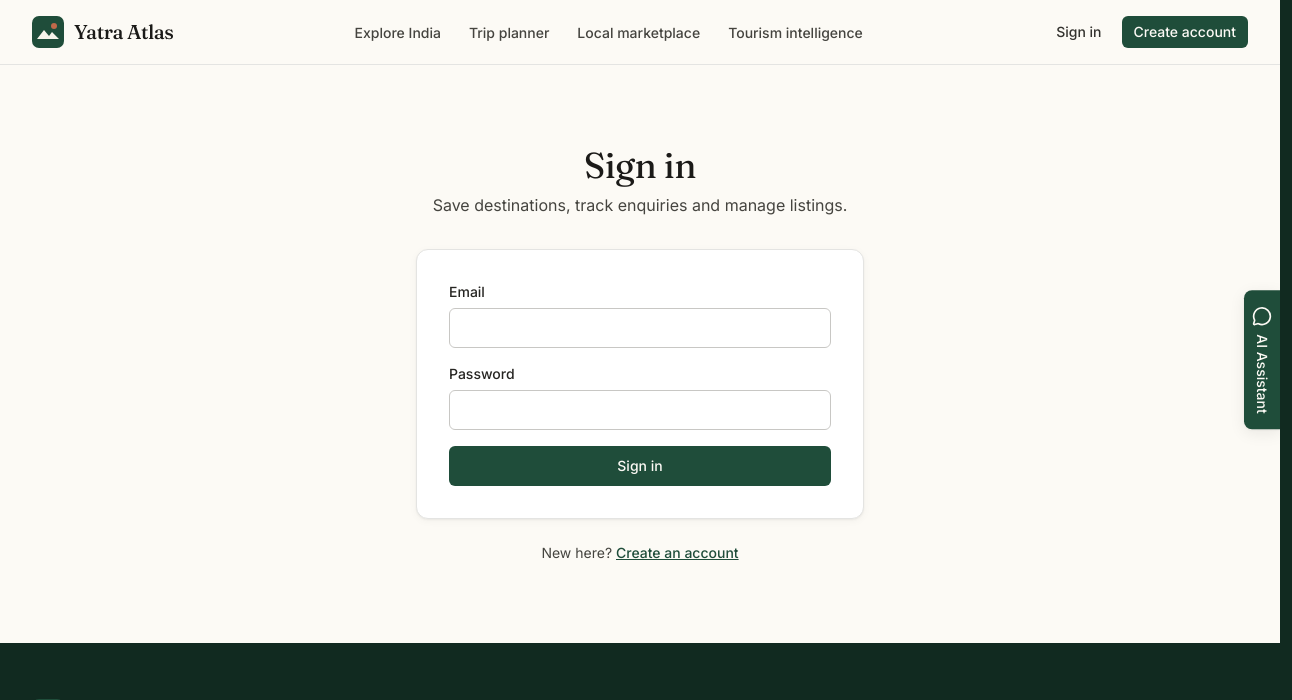
it: Login › shows the server error for wrong credentials
Type "asha@example.com" into the field labelled "Email" at (640, 328), box [449, 308, 831, 348]
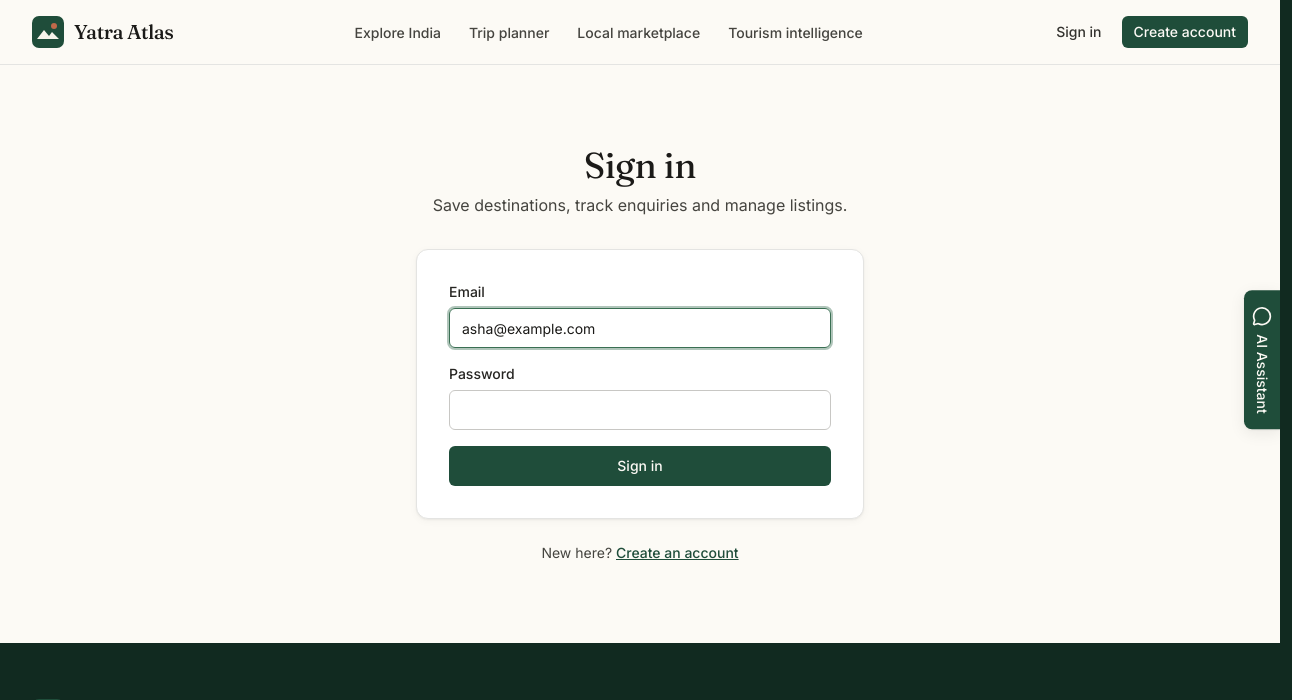
Type "wrong-password-1" into the password field labelled "Password" at (640, 410), box [449, 390, 831, 430]
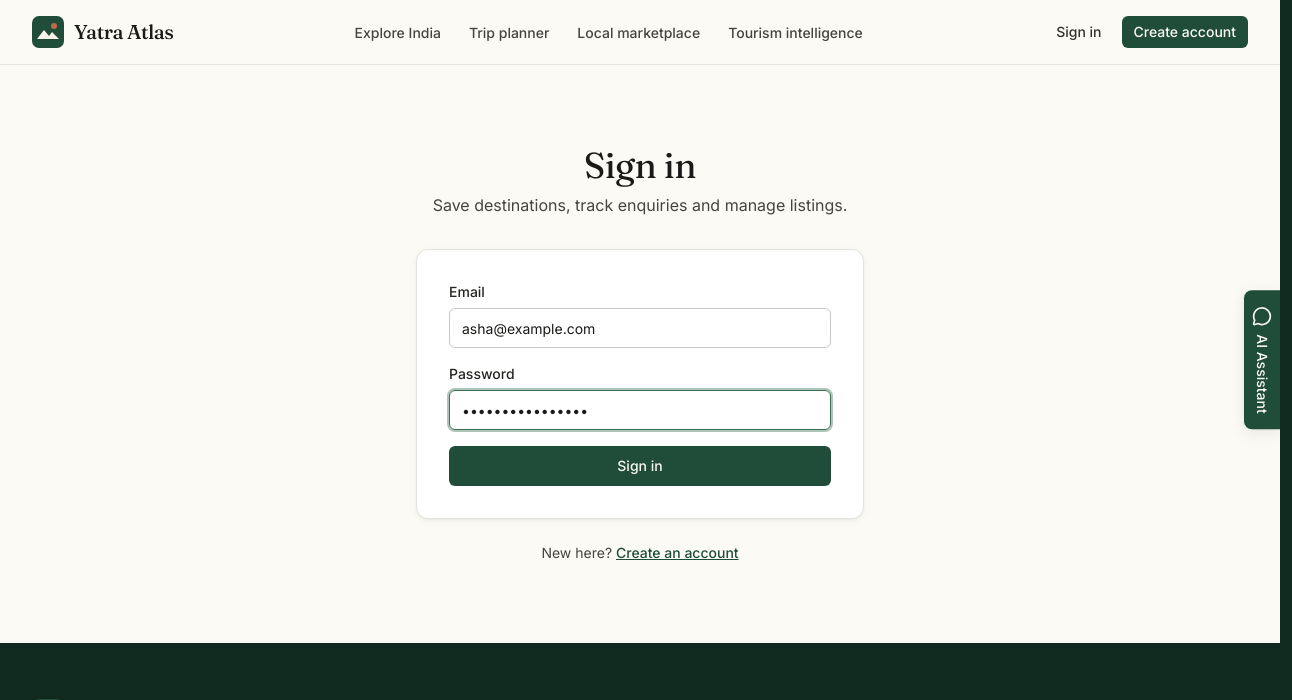
Click the button "Sign in" at (640, 466), box [449, 446, 831, 486]
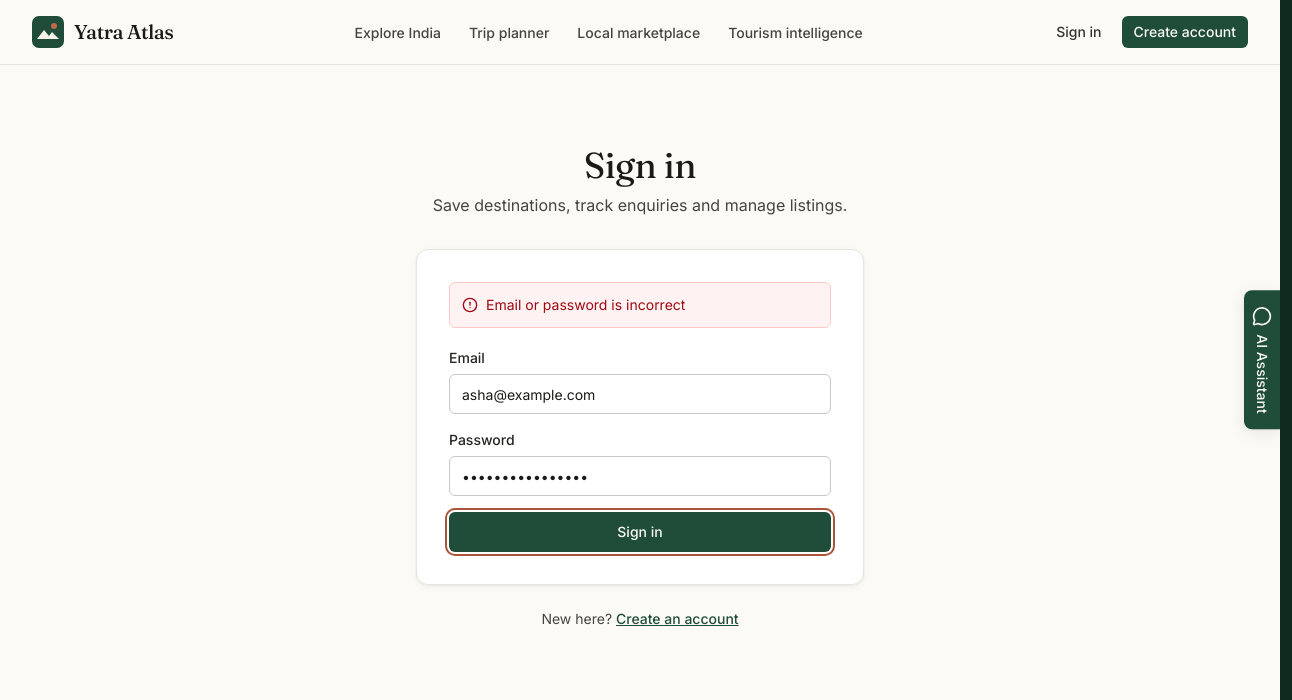
Expected: the message shows "incorrect", [486, 296, 685, 313]
